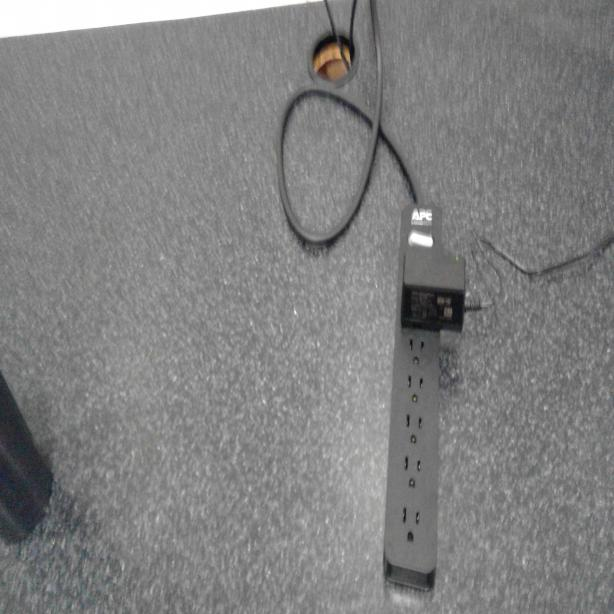typeb: (400, 500, 420, 545), (403, 452, 423, 491), (406, 412, 424, 444), (406, 374, 425, 403), (407, 336, 425, 366)
